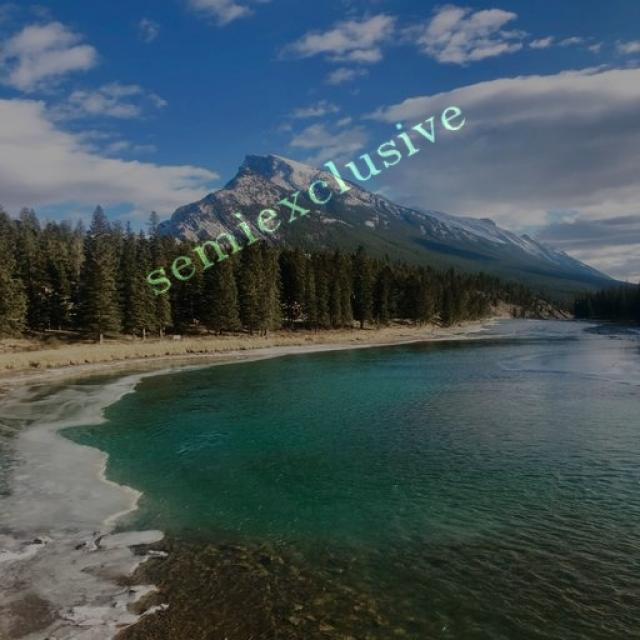watermark: (142, 86, 470, 305)
